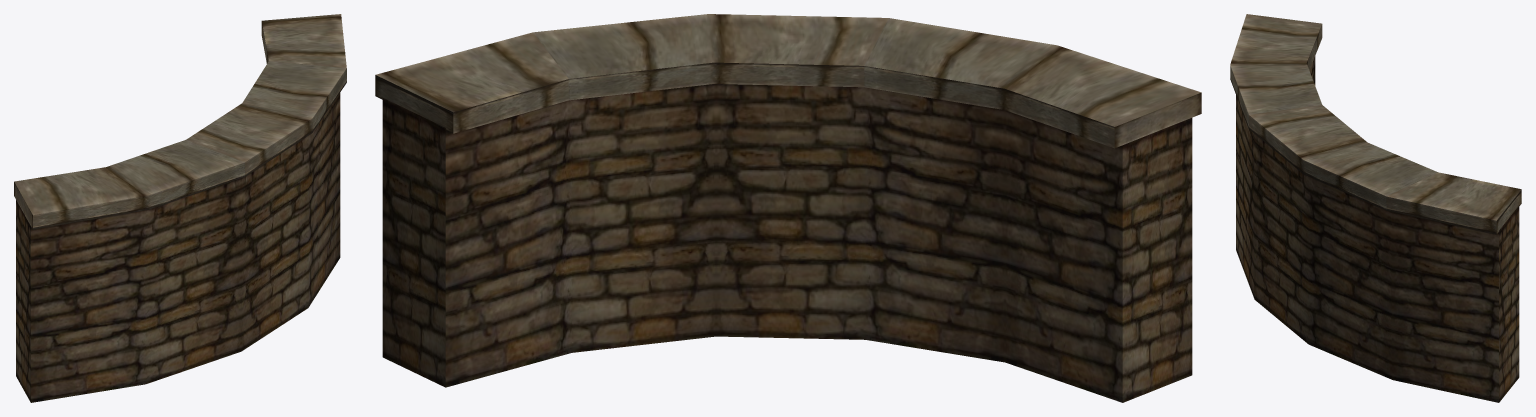
The model's file is planter.fbx.
3 views of the same model, side by side, from view 1: azimuth 30°, elevation 25°; view 2: azimuth 150°, elevation 25°; view 3: azimuth 270°, elevation 25° (orthographic). The views are drawn at different scales.
Visible parts, largest first — view 1: lod_high; view 2: lod_high; view 3: lod_high.
Part boxes in pixels (<box>): lod_high: <box>14,14,346,402</box>; lod_high: <box>375,14,1201,402</box>; lod_high: <box>1230,14,1521,402</box>.
Bounding box in the file's own units: 771 × 322 × 460.
Materials: 1 (1 with a texture image).
